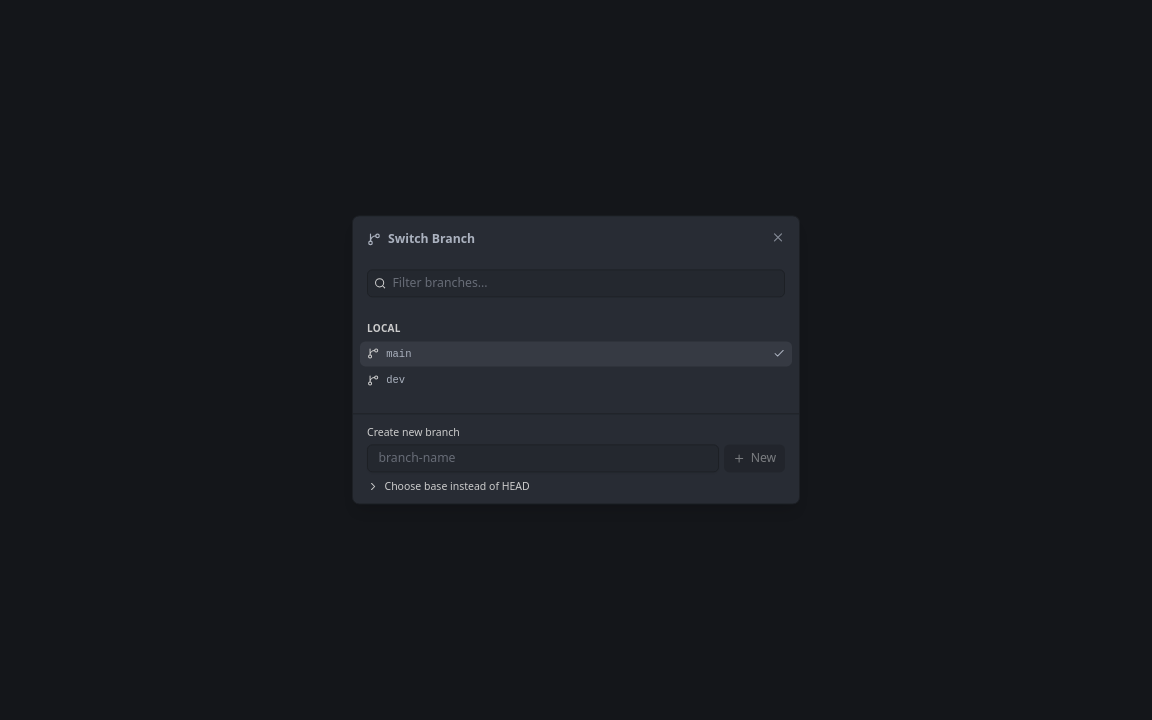
Test: BranchPicker › shows an error when checkoutBranch fails and stays open
The image size is (1152, 720).
Click the button "dev" at (386, 380), box x1=367 y1=374 x2=405 y2=386
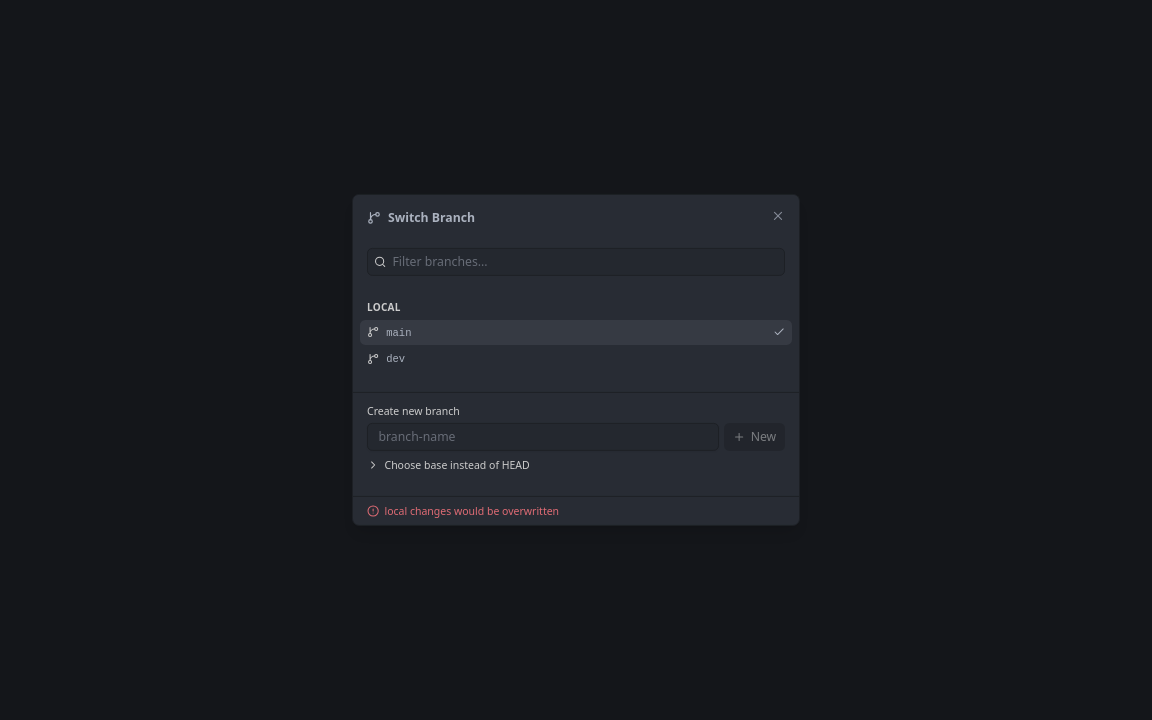
Result: the text "local changes would be overwritten" is shown at x1=384 y1=504 x2=559 y2=518
